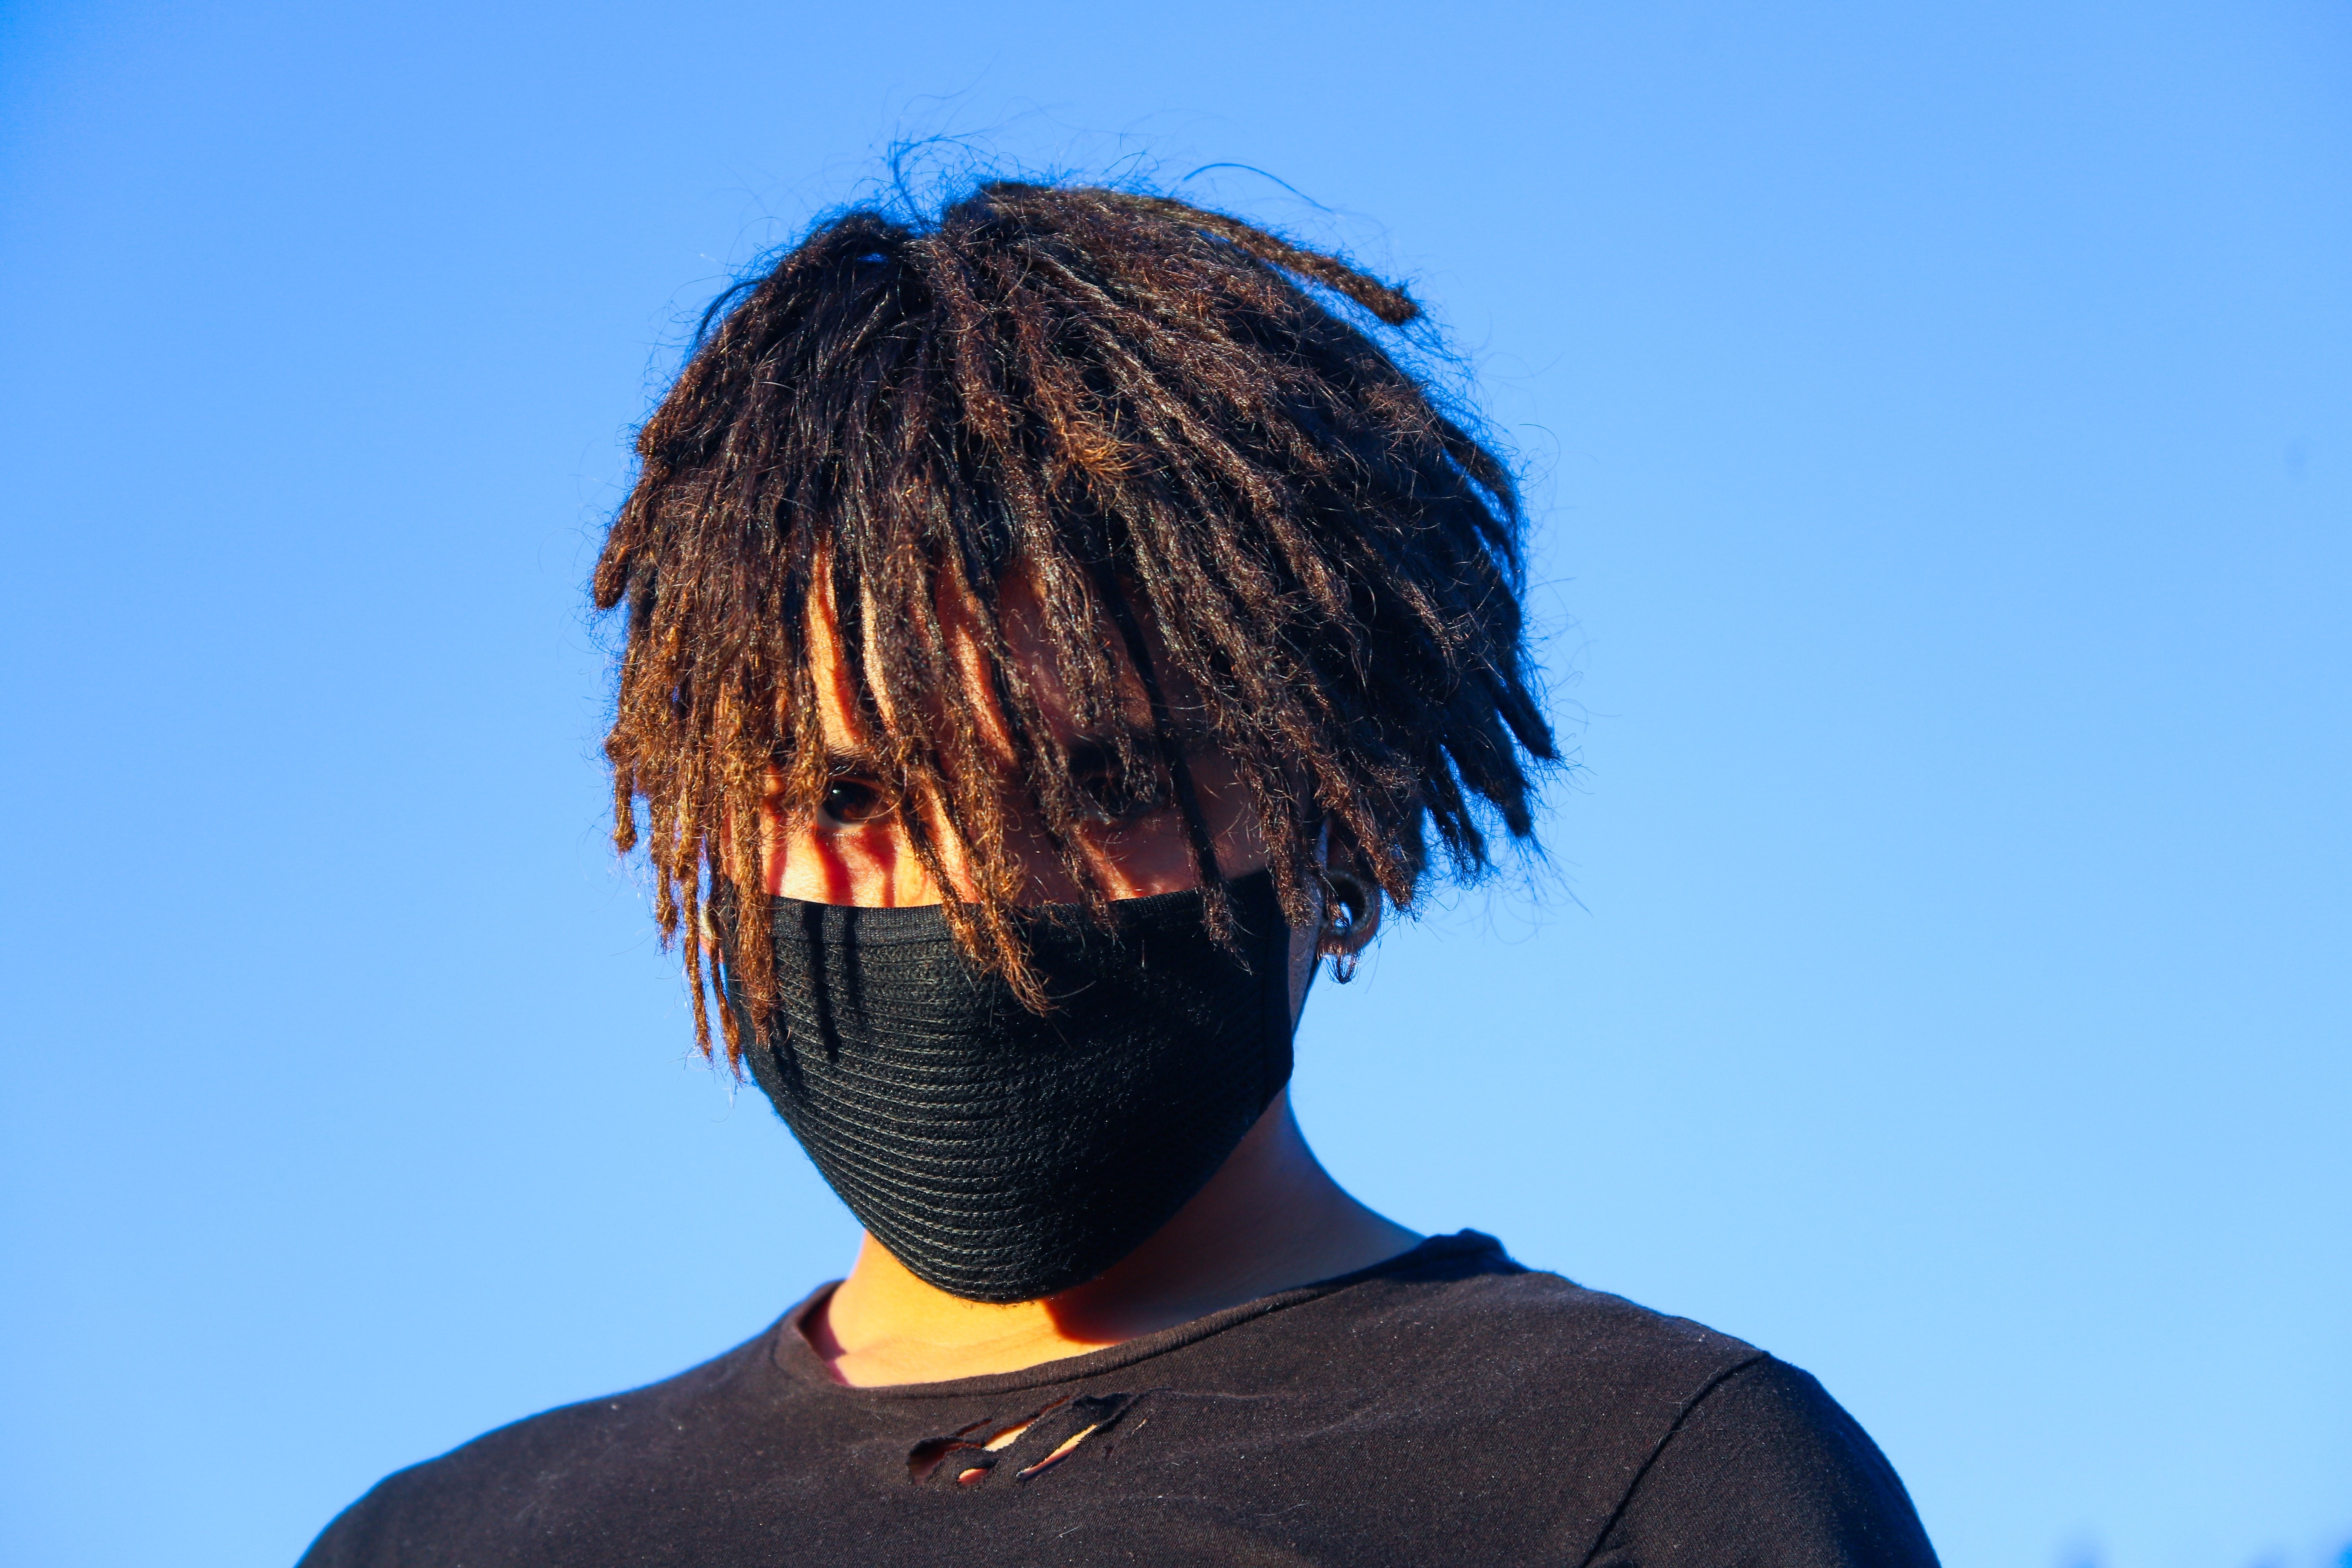face_with_mask: (659, 441, 1378, 1295)
